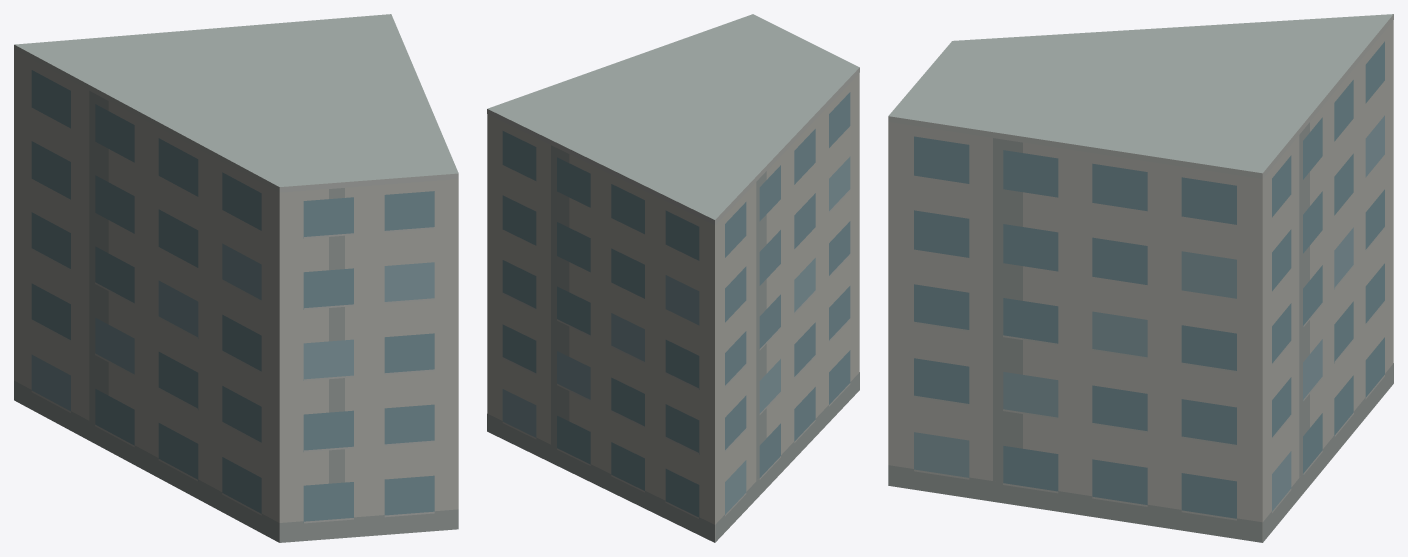
File: residential-abe9a609-c7bc-4676-bd14-312c5e6f2a54.glb
3 renders of one model, left to right at view 1: azimuth 30°, elevation 25°; view 2: azimuth 150°, elevation 25°; view 3: azimuth 270°, elevation 25°, orthographic. The views are drawn at different scales.
Parts seen in each view (by area): view 1: residential-abe9a609-c7bc-4676-bd14-312c5e6f2a54.tmp; view 2: residential-abe9a609-c7bc-4676-bd14-312c5e6f2a54.tmp; view 3: residential-abe9a609-c7bc-4676-bd14-312c5e6f2a54.tmp.
Part boxes in pixels (x1=…): residential-abe9a609-c7bc-4676-bd14-312c5e6f2a54.tmp: x1=14, y1=14, x2=458, y2=542; residential-abe9a609-c7bc-4676-bd14-312c5e6f2a54.tmp: x1=487, y1=14, x2=859, y2=542; residential-abe9a609-c7bc-4676-bd14-312c5e6f2a54.tmp: x1=888, y1=14, x2=1393, y2=542.
Bounding box in the file's own units: 14.11 × 15.25 × 18.91.
